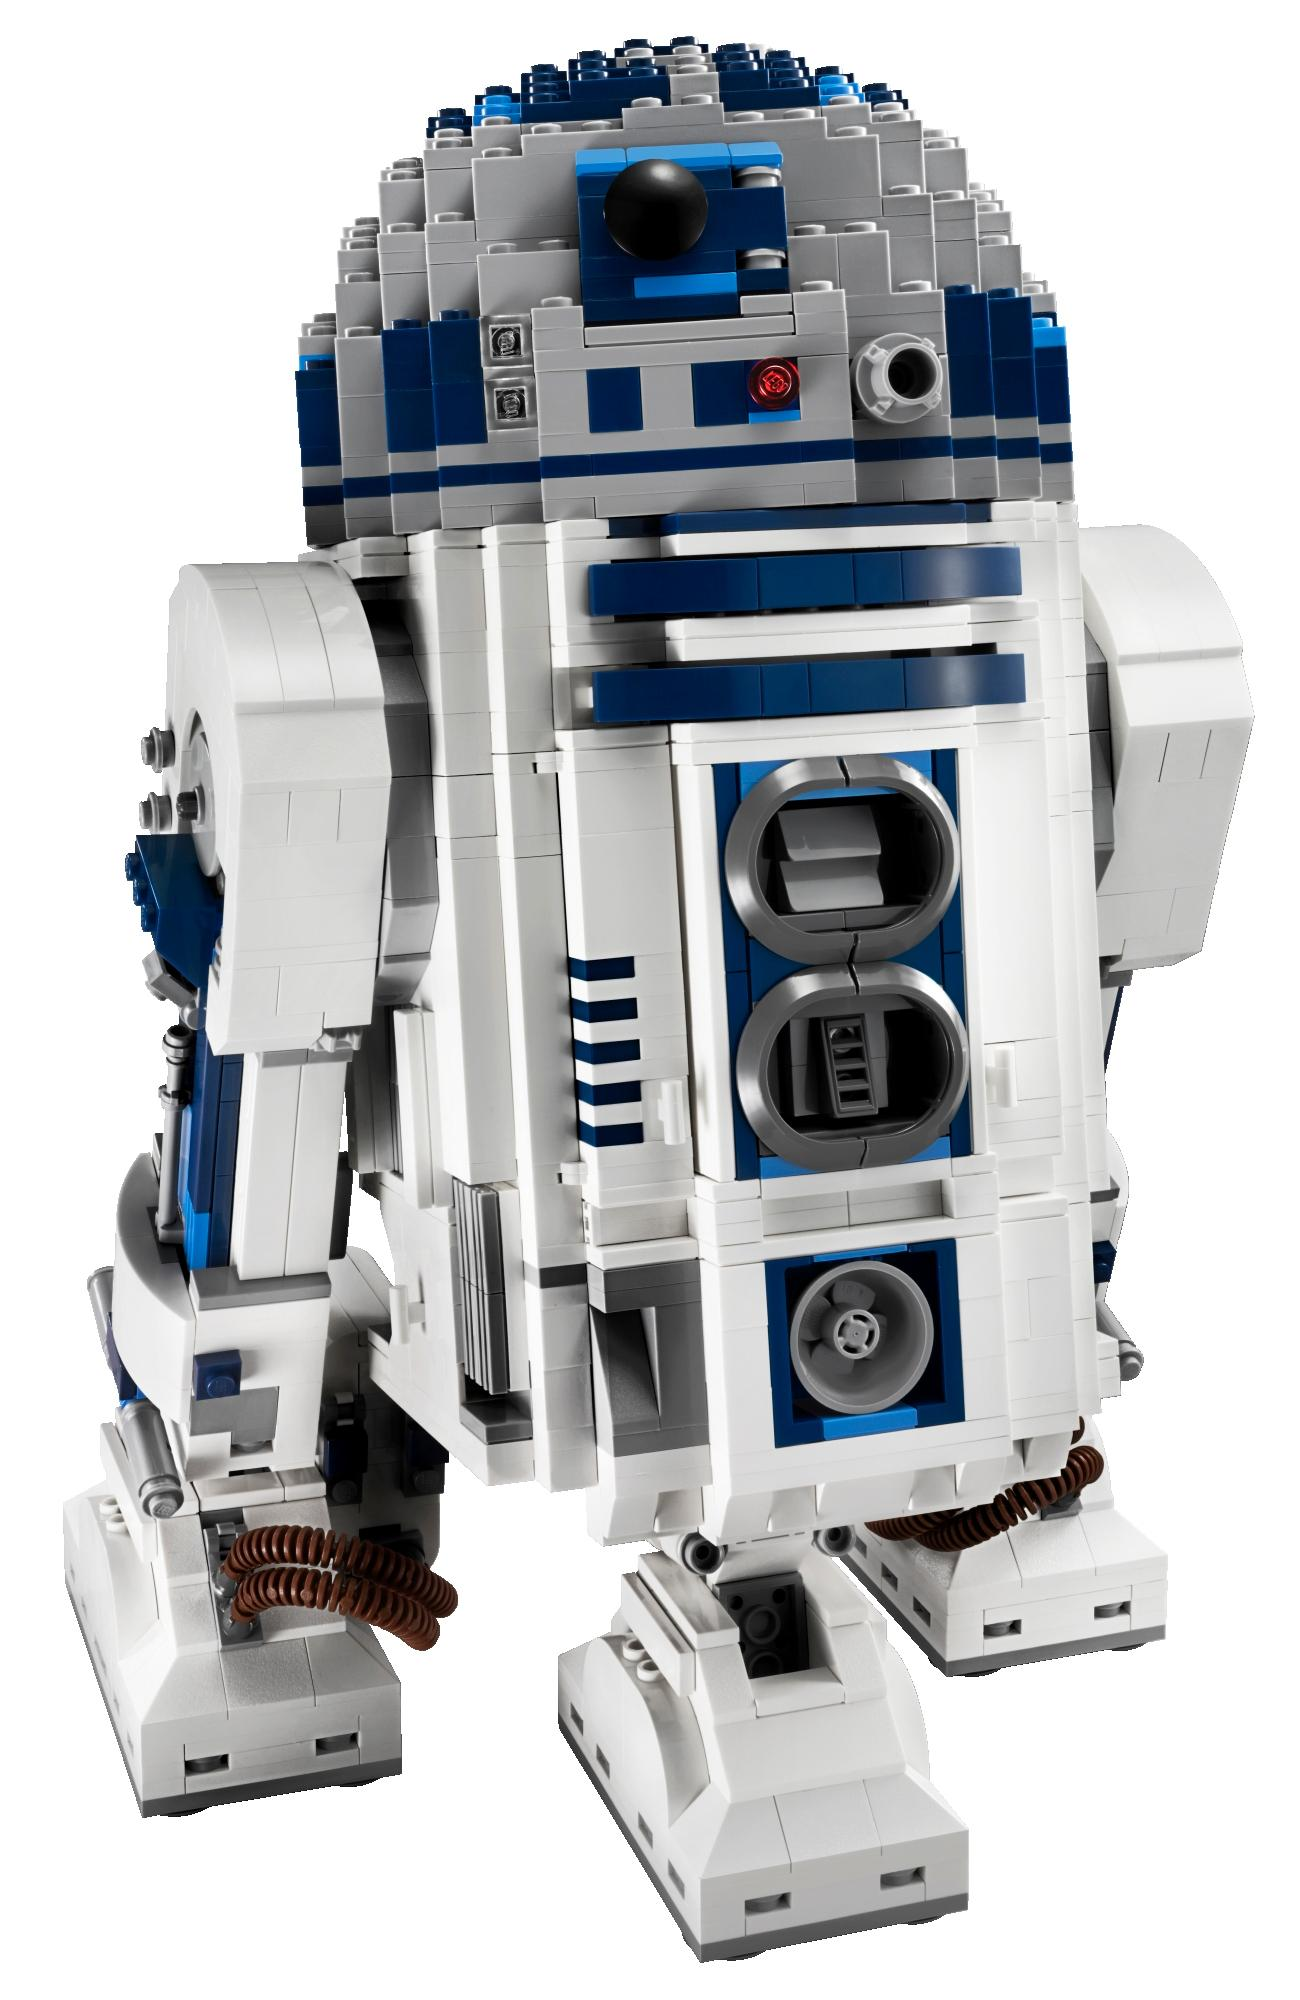r2d2: (93, 31, 1230, 1945)
